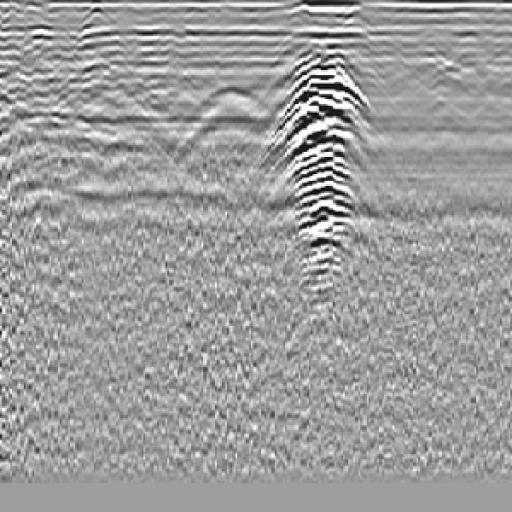metalic: (269, 47, 373, 301)
nonmetalic: (167, 75, 299, 188)
